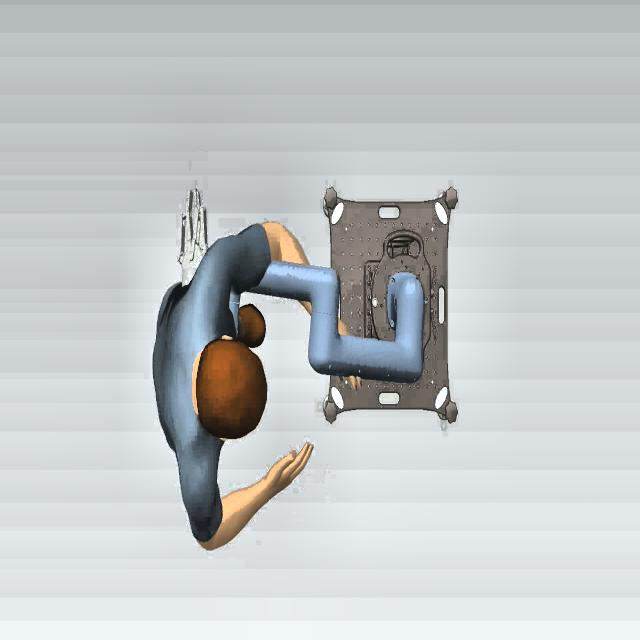robot: (221, 243, 431, 401)
